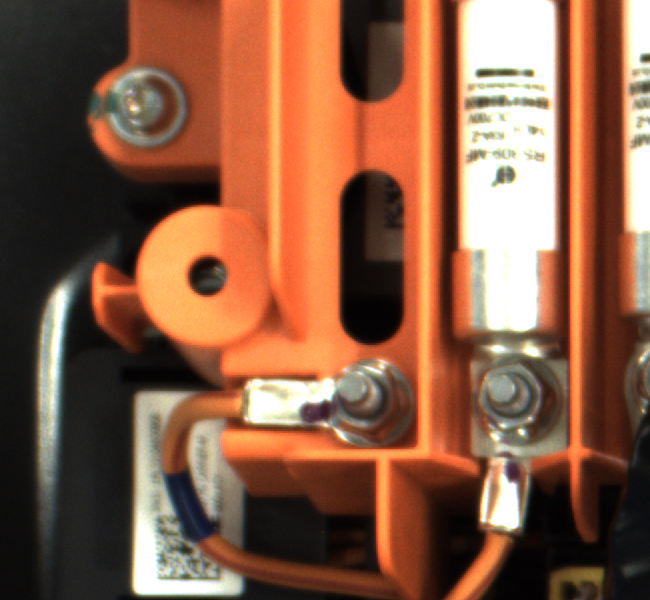screw_m: (93, 66, 215, 151)
screw_s: (307, 359, 419, 448), (465, 362, 562, 448)
